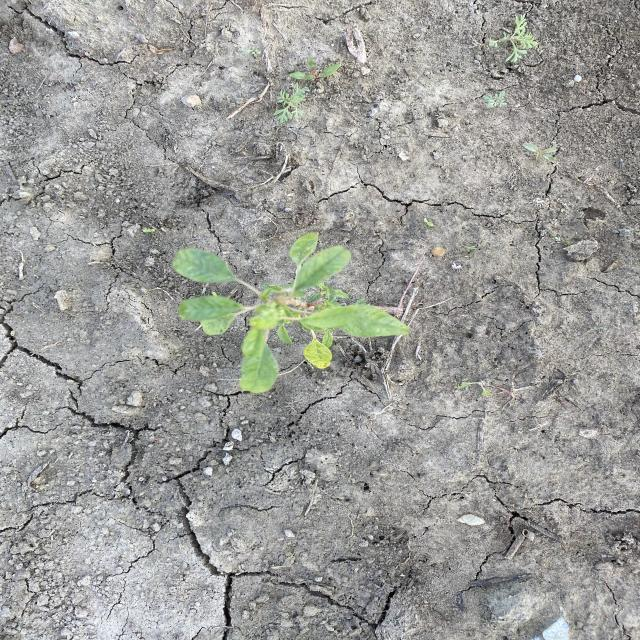Ragweed: (483, 15, 541, 64), (272, 81, 312, 124)
Waterhemp: (167, 231, 414, 396)
